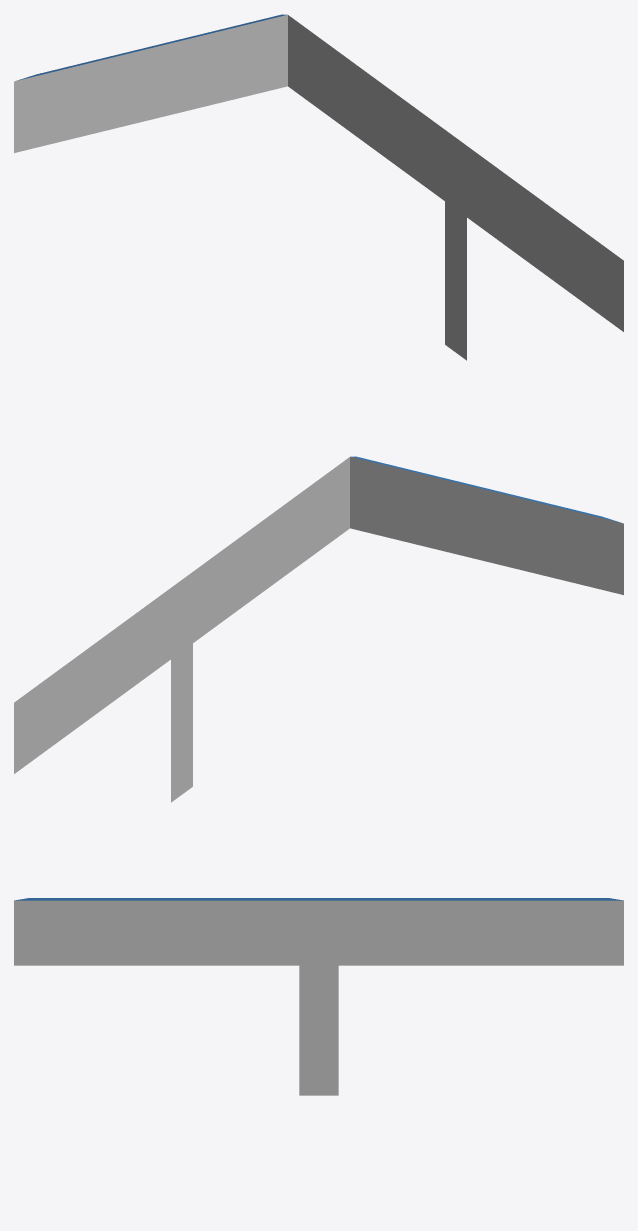
Rendered from ceiling_17x8.glb.
3 views of the same model, one above another, from view 1: azimuth 30°, elevation 25°; view 2: azimuth 150°, elevation 25°; view 3: azimuth 270°, elevation 25° (orthographic). The views are drawn at different scales.
Parts seen in each view (by area): view 1: Ceiling_17x8-col; view 2: Ceiling_17x8-col; view 3: Ceiling_17x8-col.
Part boxes in pixels (left/top/right/bottom): Ceiling_17x8-col: left=14, top=14, right=623, bottom=360; Ceiling_17x8-col: left=14, top=456, right=623, bottom=802; Ceiling_17x8-col: left=14, top=898, right=623, bottom=1095.
Bounding box in the file's own units: 8 × 6.27 × 17.
